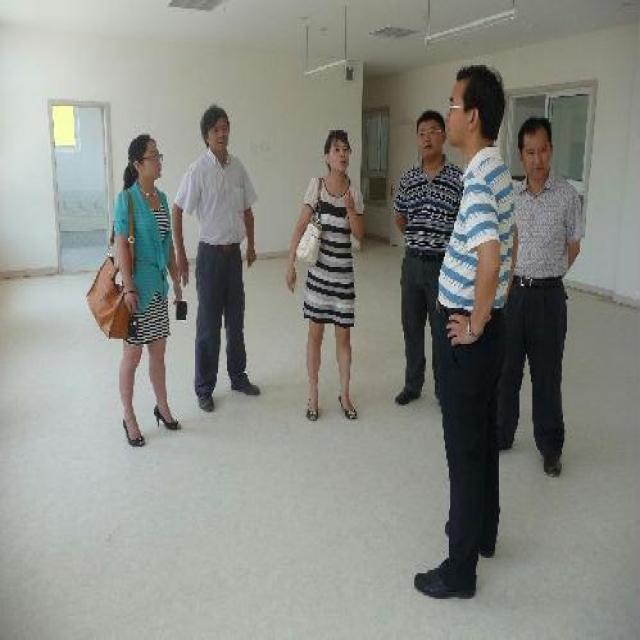no-helmet: (446, 58, 508, 161), (513, 110, 557, 187), (412, 112, 452, 170), (127, 130, 163, 190), (199, 104, 232, 160), (321, 125, 352, 183)
